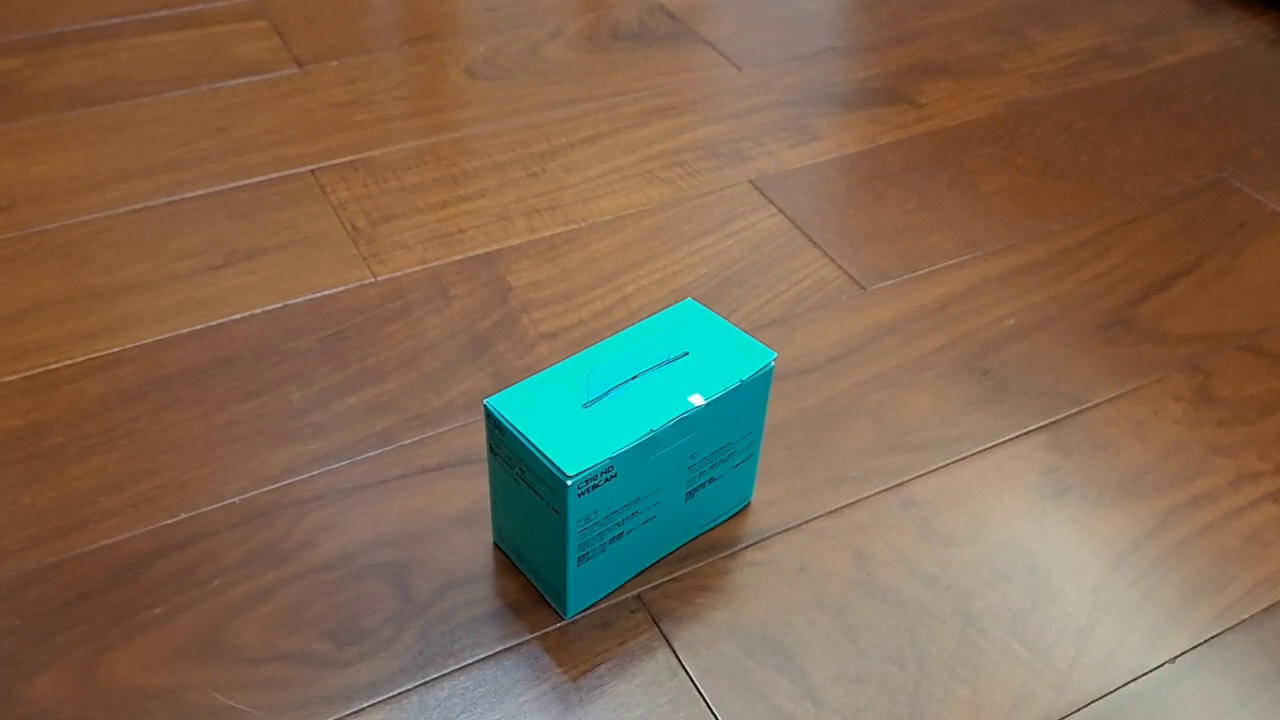webcam: (481, 295, 779, 622)
